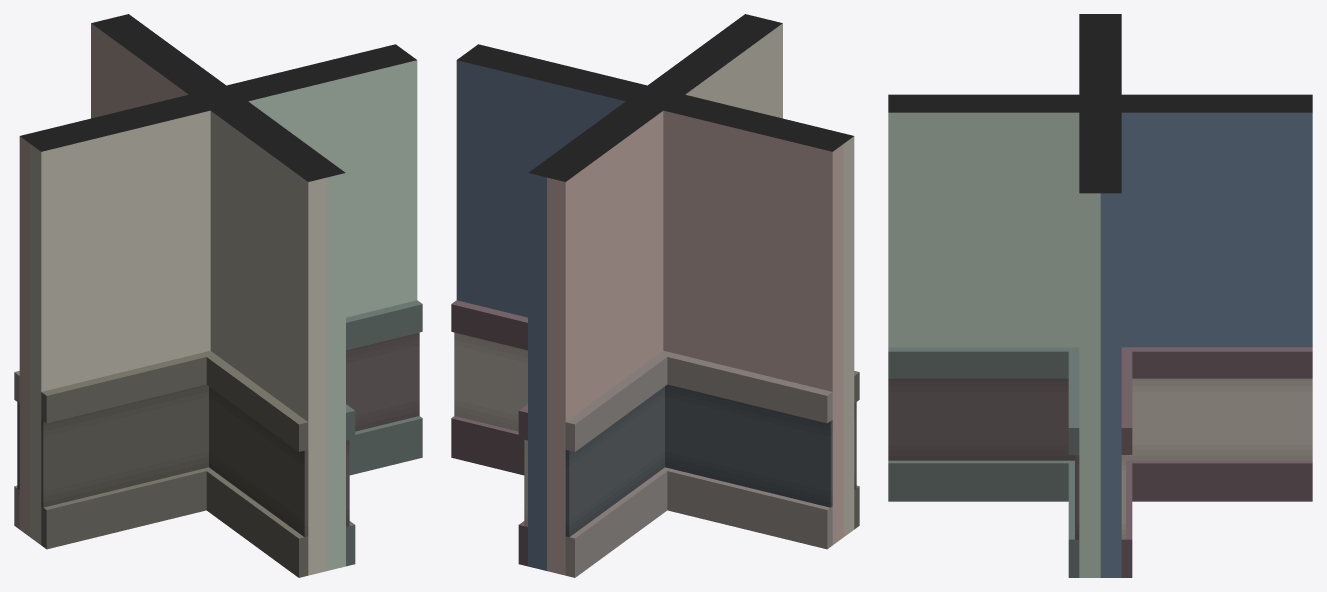
Rendered from mesh_doublewall_cross_4.glb.
3 views of the same model, side by side, from view 1: azimuth 30°, elevation 25°; view 2: azimuth 150°, elevation 25°; view 3: azimuth 270°, elevation 25° (orthographic). The views are drawn at different scales.
Parts seen in each view (by area): view 1: mesh_doublewall_cross_4_mat_wall_inside_3_0, mesh_doublewall_cross_4_mat_wall_inside_2_0, mesh_doublewall_cross_4_mat_wall_inside_1_0, mesh_doublewall_cross_4_mat_wall_inside_4_0; view 2: mesh_doublewall_cross_4_mat_wall_inside_4_0, mesh_doublewall_cross_4_mat_wall_inside_1_0, mesh_doublewall_cross_4_mat_wall_inside_3_0; view 3: mesh_doublewall_cross_4_mat_wall_inside_1_0, mesh_doublewall_cross_4_mat_wall_inside_2_0.
Part boxes in pixels (left/top/right/bottom): mesh_doublewall_cross_4_mat_wall_inside_3_0: left=30, top=110, right=326, bottom=577; mesh_doublewall_cross_4_mat_wall_inside_2_0: left=248, top=60, right=422, bottom=570; mesh_doublewall_cross_4_mat_wall_inside_1_0: left=20, top=14, right=416, bottom=181; mesh_doublewall_cross_4_mat_wall_inside_4_0: left=14, top=23, right=188, bottom=536; mesh_doublewall_cross_4_mat_wall_inside_4_0: left=547, top=110, right=843, bottom=577; mesh_doublewall_cross_4_mat_wall_inside_1_0: left=451, top=14, right=853, bottom=570; mesh_doublewall_cross_4_mat_wall_inside_3_0: left=685, top=23, right=859, bottom=536; mesh_doublewall_cross_4_mat_wall_inside_1_0: left=888, top=14, right=1312, bottom=577; mesh_doublewall_cross_4_mat_wall_inside_2_0: left=888, top=112, right=1100, bottom=577.
Bounding box in the file's own units: 3 × 3 × 3.
4 materials, 4 textured.
